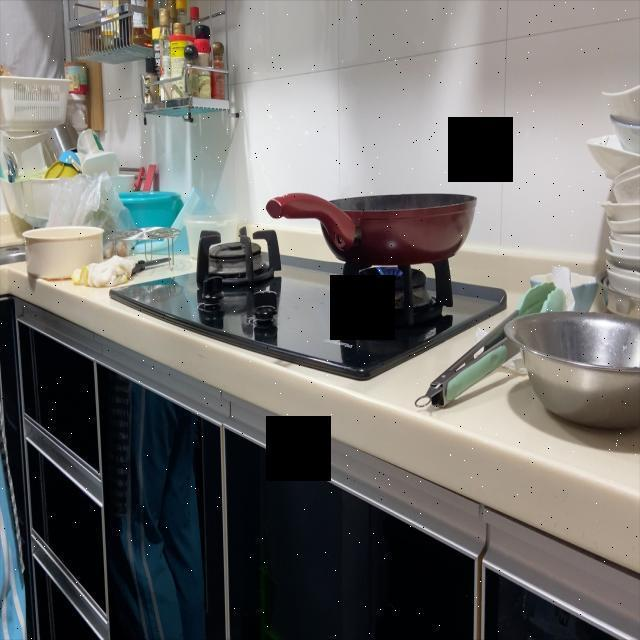Flame: (355, 263, 438, 291)
Pan: (262, 193, 478, 262)
